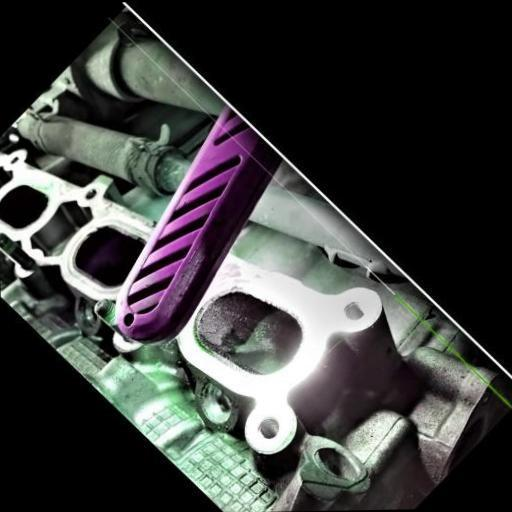hole: (252, 412, 288, 446), (340, 294, 374, 328), (82, 185, 103, 206)
